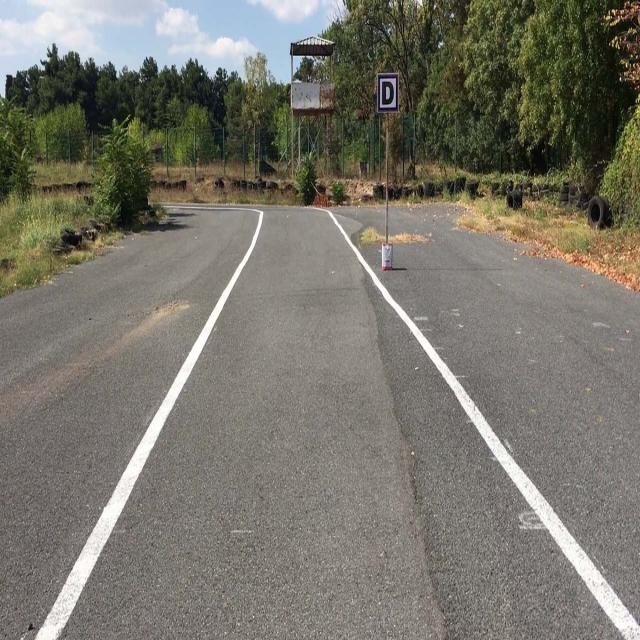durak: (378, 75, 398, 111)
